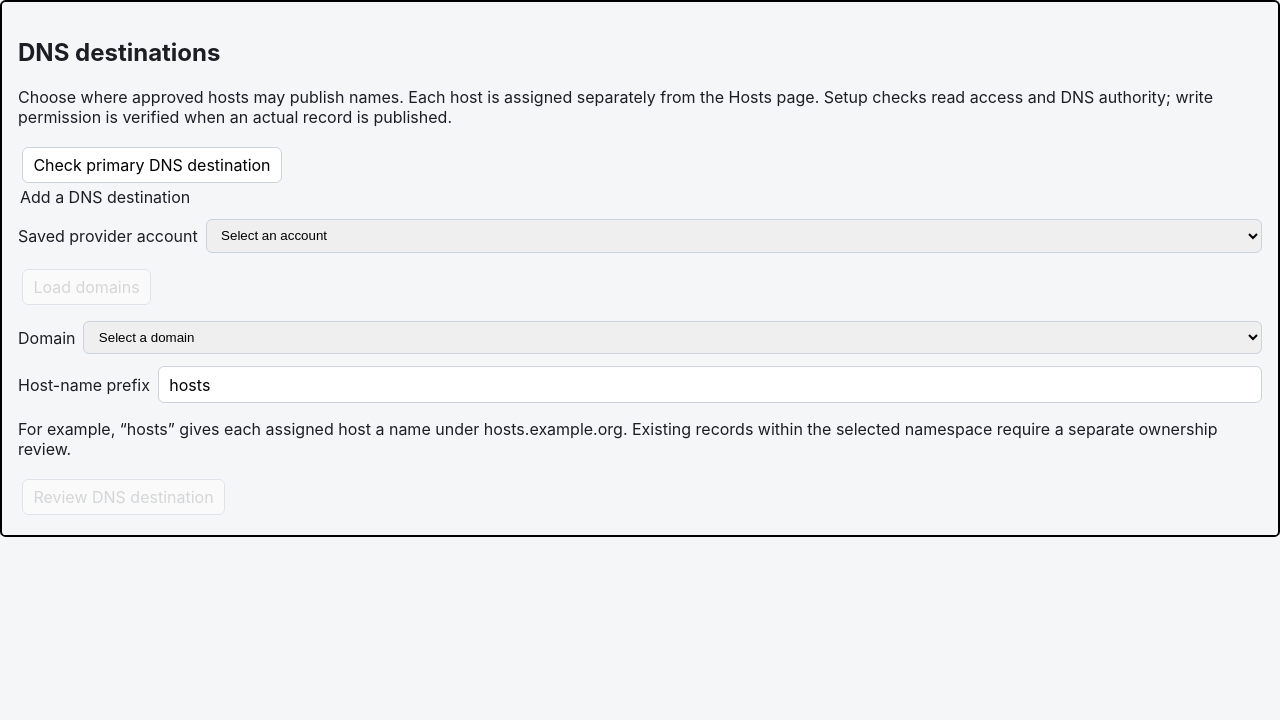
it: shows a safe provider error without offering confirmation
This screenshot has width=1280, height=720.
Select "Porkbun test (porkbun)" in the dropdown labelled "Saved provider account": (734, 236) [206,219,1262,253]
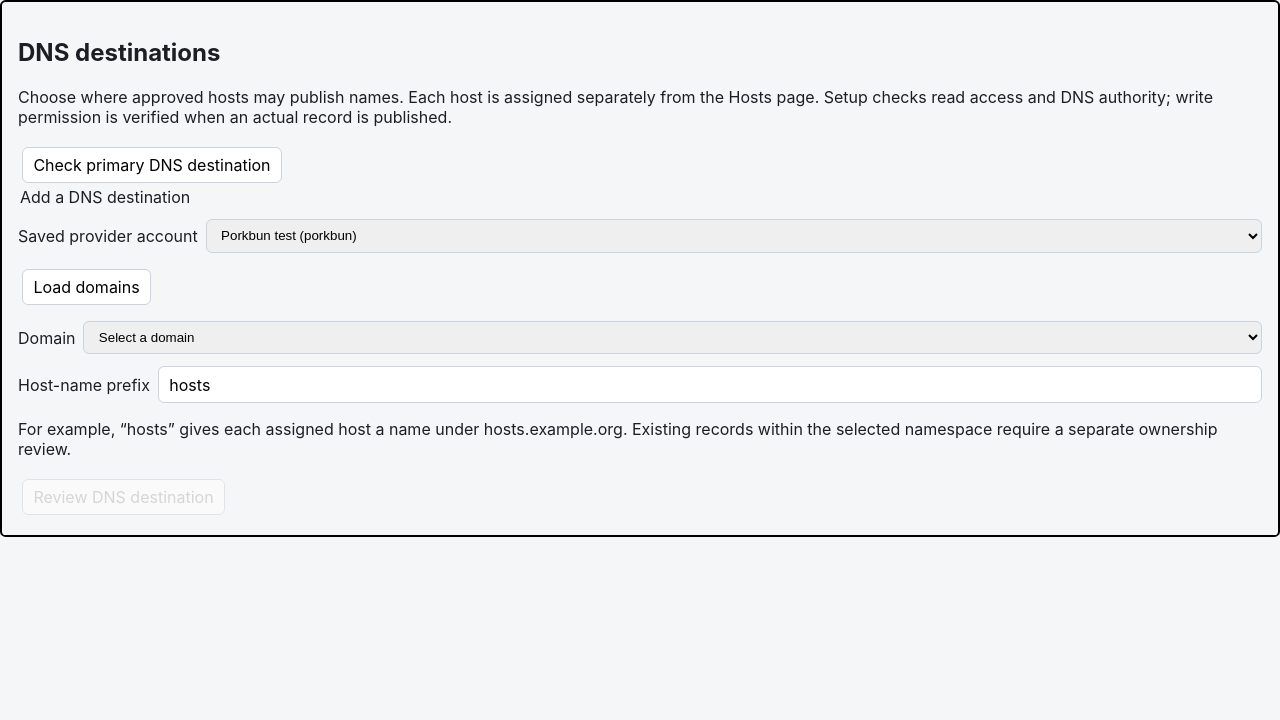
Click the button "Load domains": (86, 287) [22,269,151,305]
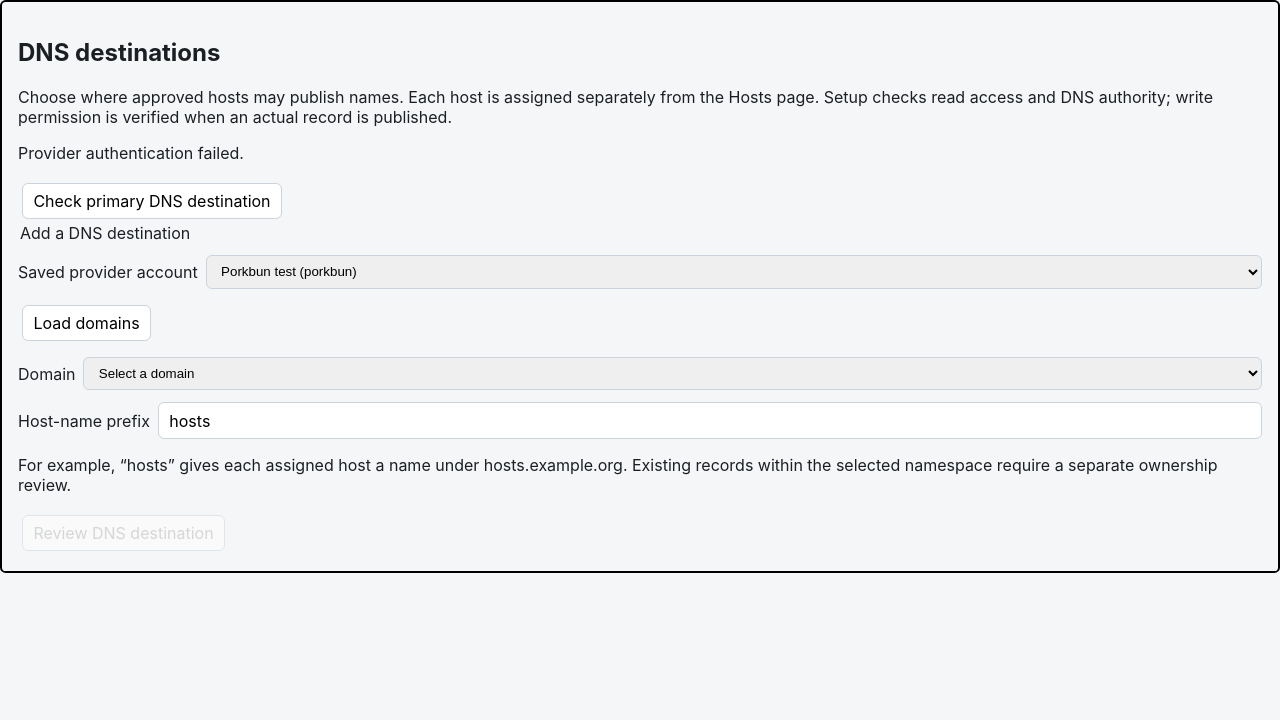
Expected: the message reads "Provider authentication failed.", [18,143,244,163]
